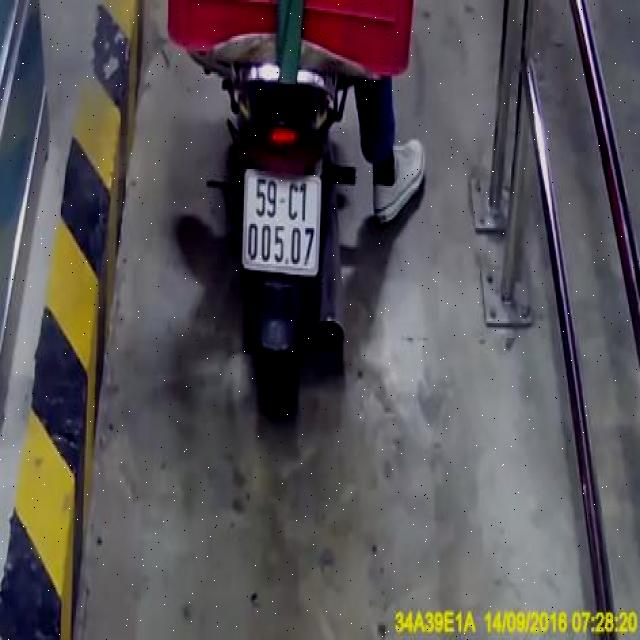0: (258, 219, 272, 266), (288, 223, 302, 265), (247, 219, 258, 262)
1: (298, 178, 310, 226)
5: (273, 221, 286, 266), (254, 172, 266, 219)
7: (302, 220, 316, 270)
9: (265, 176, 278, 217)
C: (287, 181, 302, 226)
